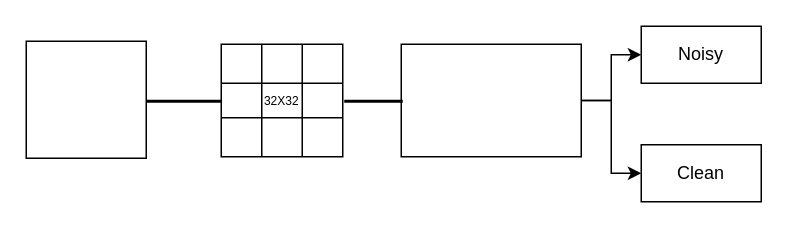
The diagram is 788 pixels wide and 228 high, and some of its shapes have lost their labels. The centre of each missing label's shape, as x and y in pixels:
Image generated by generator: the point at 85,99
Patch Discriminator: the point at 490,100
